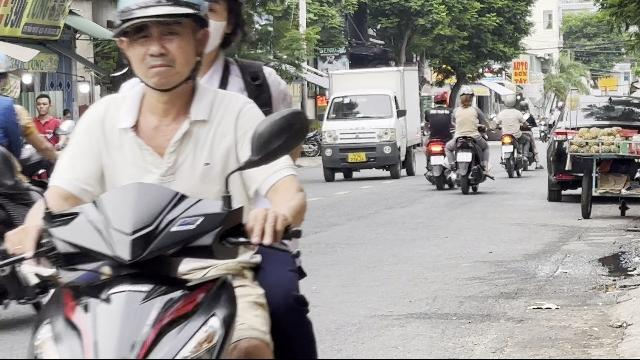motorcyclist: (0, 0, 326, 356)
